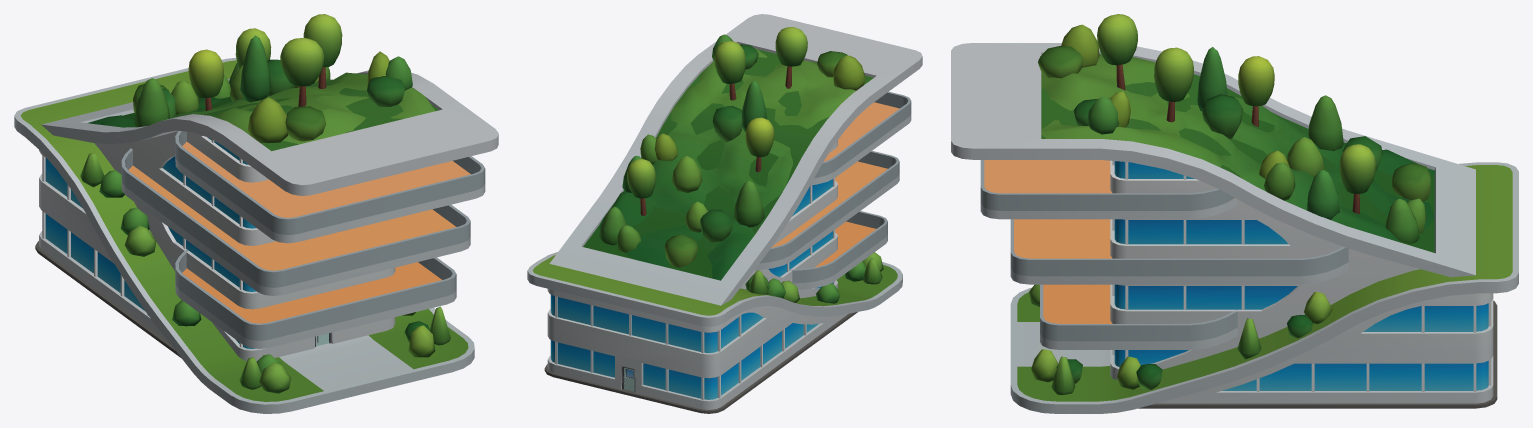
Rendered from u_building_eco_building_terrace_.glb.
3 views of the same model, side by side, from view 1: azimuth 30°, elevation 25°; view 2: azimuth 150°, elevation 25°; view 3: azimuth 270°, elevation 25° (orthographic). The views are drawn at different scales.
Parts seen in each view (by area): view 1: Eco_Building_Terrace; view 2: Eco_Building_Terrace; view 3: Eco_Building_Terrace.
Part boxes in pixels (box(x1,y1,x2,y2)): Eco_Building_Terrace: box(14, 14, 498, 413); Eco_Building_Terrace: box(527, 14, 922, 413); Eco_Building_Terrace: box(951, 14, 1518, 413).
Size of the model in its own units: 1909 by 2441 by 3821.
Materials: 2 (2 with a texture image).
